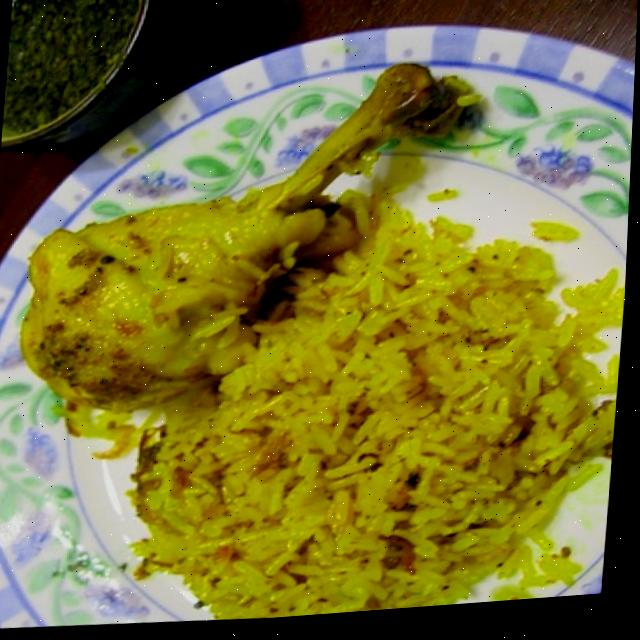米饭主食: (0, 0, 638, 640)
